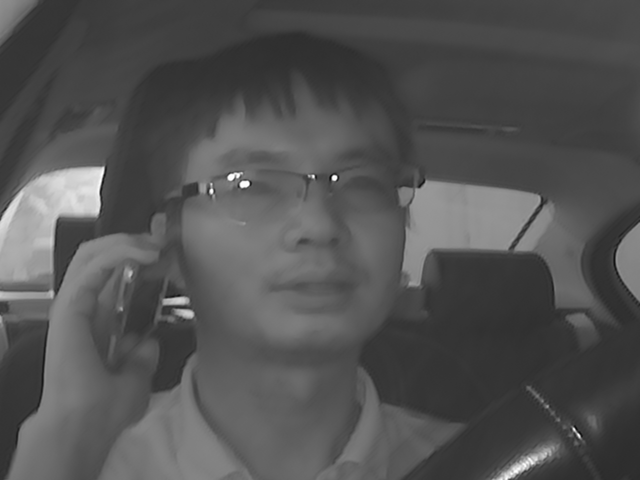hand: (37, 229, 169, 423)
